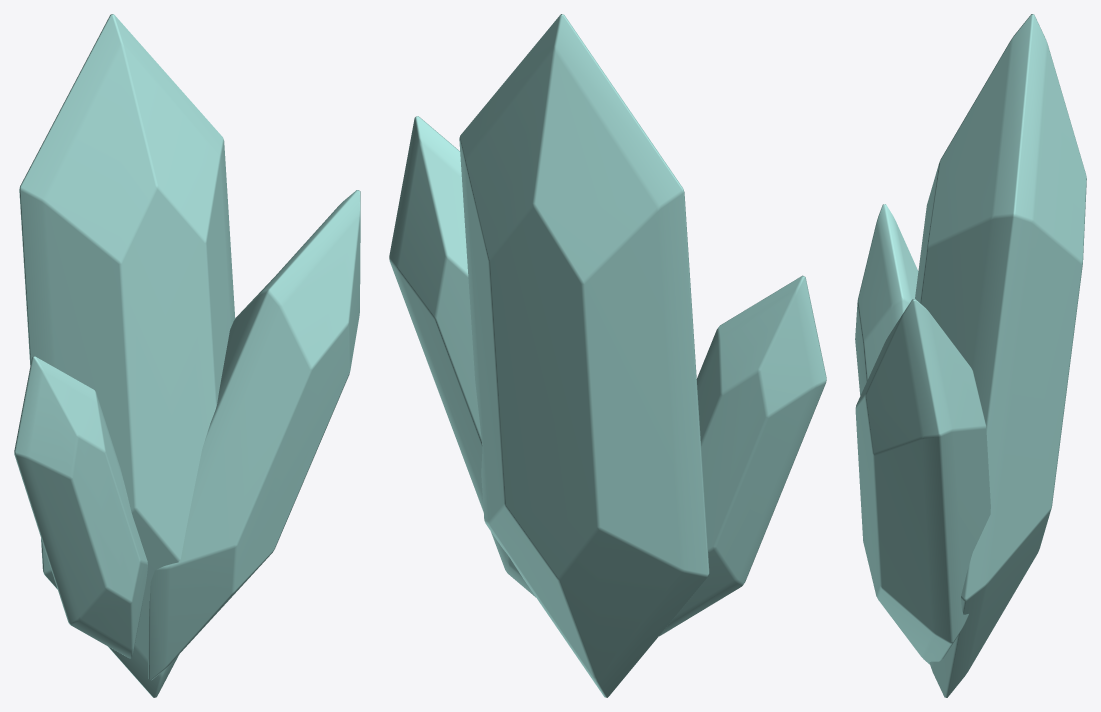
File: SM_Crystal.001.fbx
The picture shows the model from 3 angles, left to right: view 1: azimuth 30°, elevation 25°; view 2: azimuth 150°, elevation 25°; view 3: azimuth 270°, elevation 25°; orthographic projection. The views are drawn at different scales.
Visible parts, largest first — view 1: Crystal.000; view 2: Crystal.000; view 3: Crystal.000.
Part boxes in pixels (x1,y1,x2,y2): Crystal.000: (14, 14, 360, 697); Crystal.000: (389, 14, 826, 697); Crystal.000: (855, 14, 1086, 697).
Size of the model in its own units: 66.56 by 112 by 34.41.
